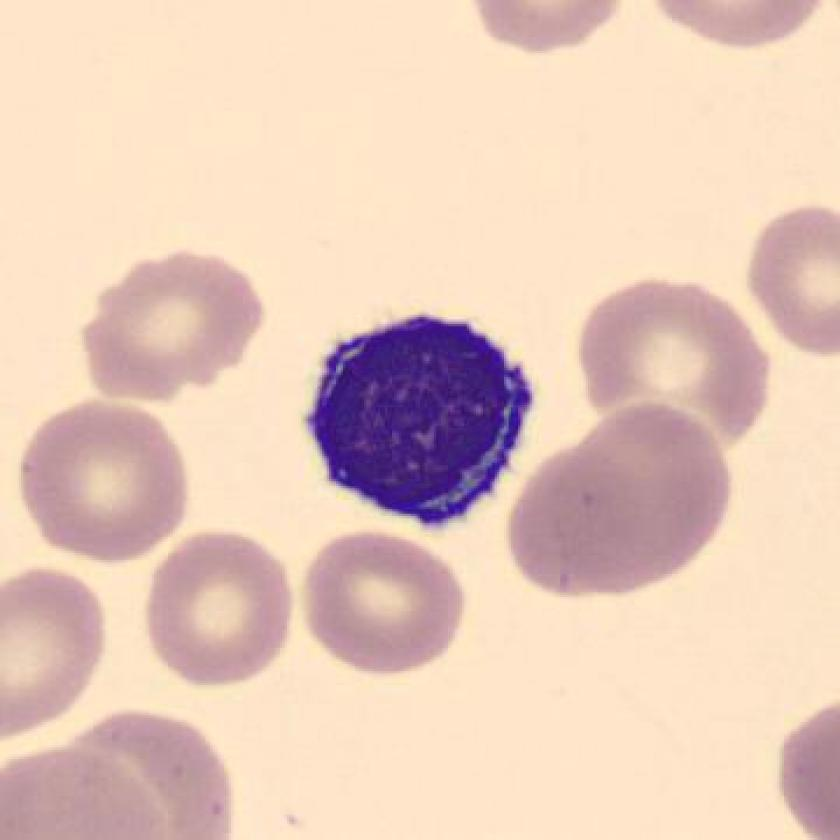lymphocyte: (298, 302, 543, 542)
